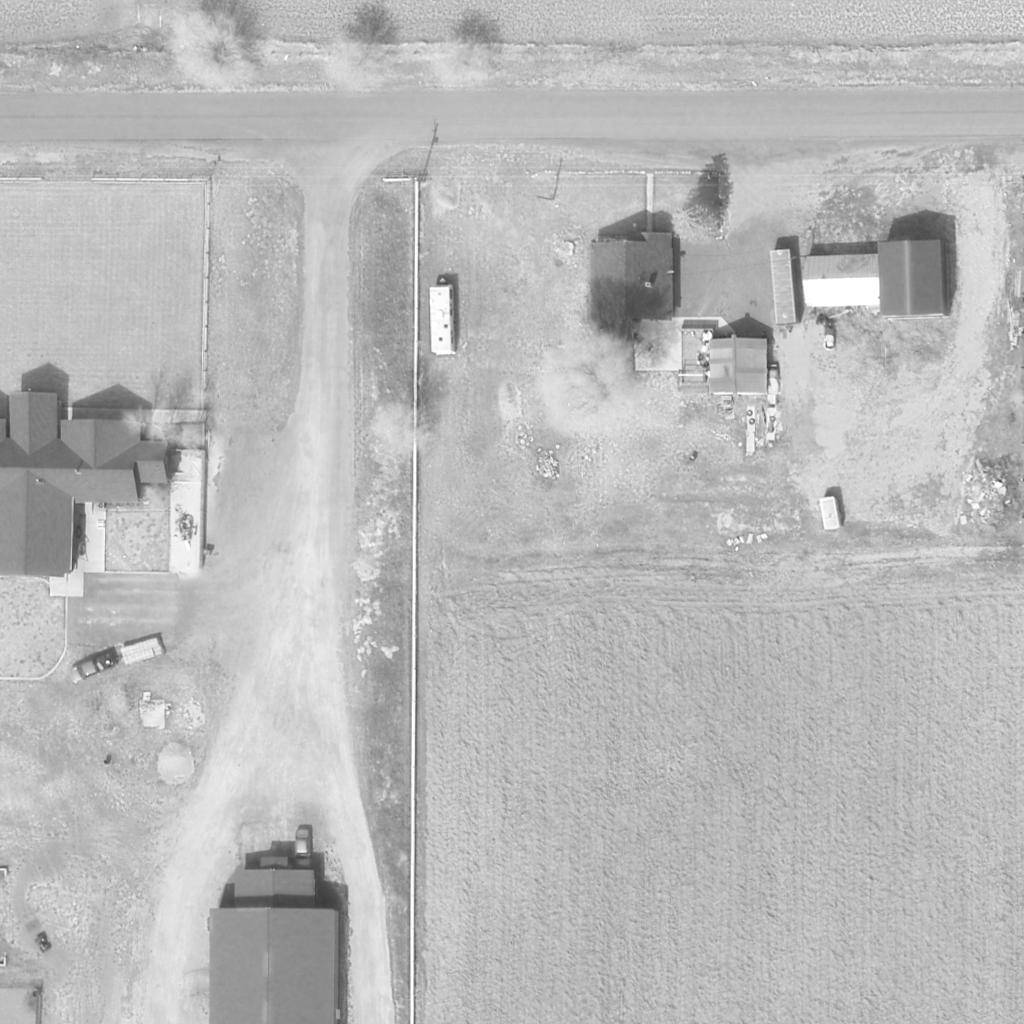vehicle: (767, 248, 803, 334), (427, 276, 459, 356), (67, 650, 117, 686), (818, 495, 844, 531), (295, 828, 313, 870)
